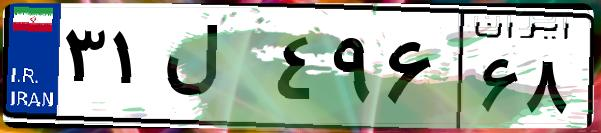1: (110, 28, 158, 98)
3: (57, 26, 110, 100)
4: (270, 28, 330, 110)
6: (385, 28, 445, 110), (475, 38, 525, 113)
8: (525, 38, 570, 115)
9: (330, 28, 385, 110)
ل: (158, 20, 270, 120)
